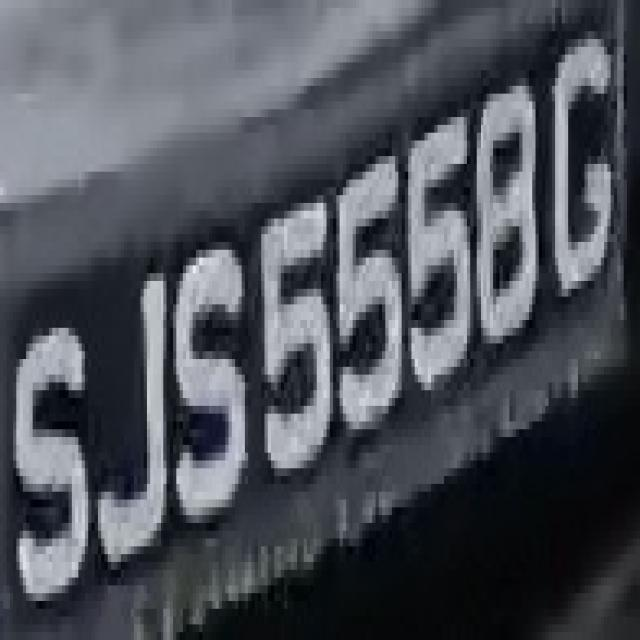5: (255, 180, 336, 476), (402, 132, 474, 422), (326, 156, 402, 429)
8: (467, 78, 542, 367)
G: (542, 8, 614, 304)
J: (95, 258, 183, 586)
S: (164, 234, 252, 546), (13, 297, 98, 601)
